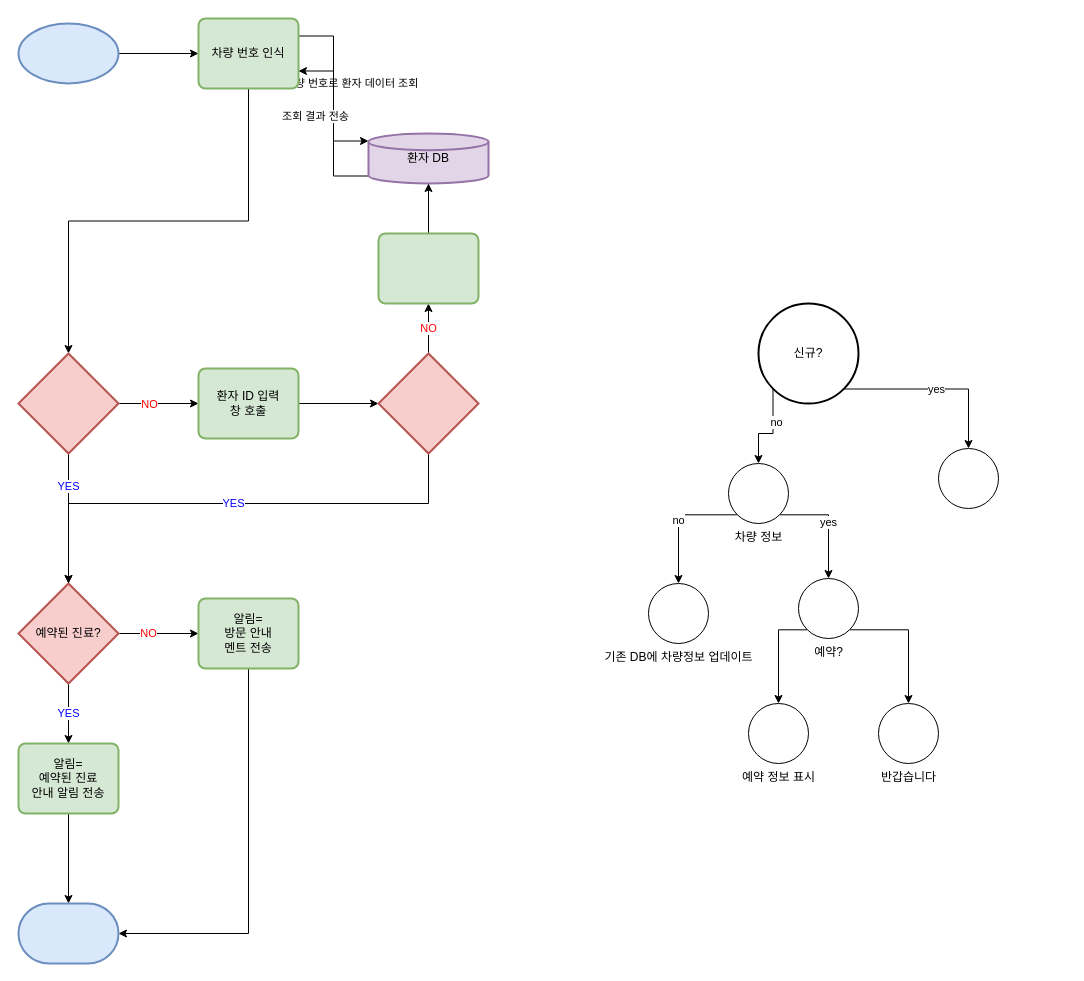
Image size: 1084x981. Some labels were removed from this diagram. Here are the shapes that lost their labels. From the top down, the box of each, then its label:
(17, 22, 119, 84): 차량 접근
(377, 232, 479, 304): 신규 환자 정보 DB에 저장
(17, 352, 119, 454): 차량 번호 일치?
(377, 352, 479, 454): 기존?
(938, 448, 998, 508): 차량 번호를 기준으로 신규 환자 ID 생성
(17, 902, 119, 964): 종료
